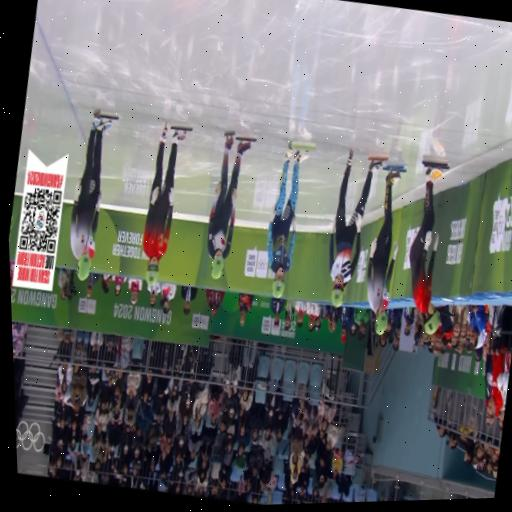Skater: (328, 149, 382, 305), (70, 113, 111, 279), (142, 125, 184, 285), (266, 143, 308, 297), (206, 133, 250, 278), (409, 162, 446, 334), (366, 168, 400, 334)
